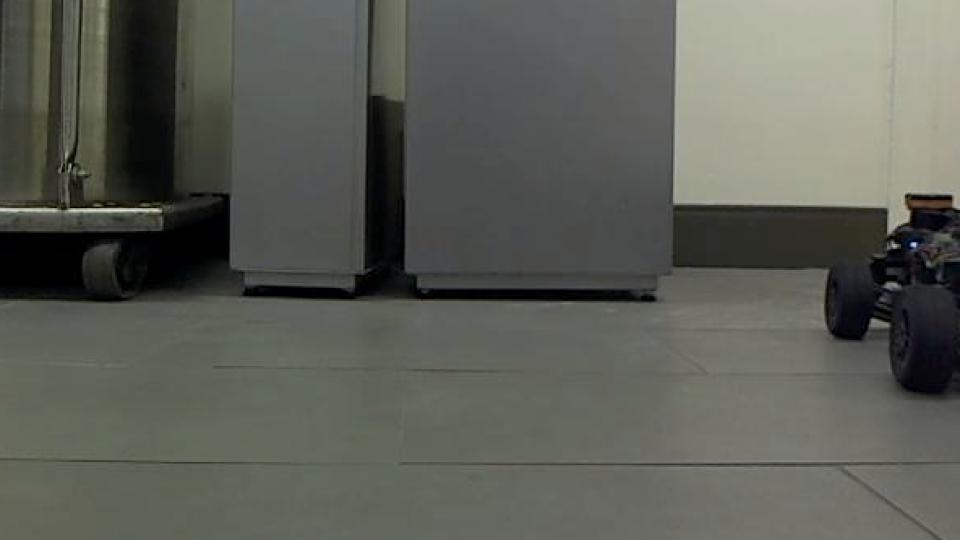car: (820, 190, 960, 396)
